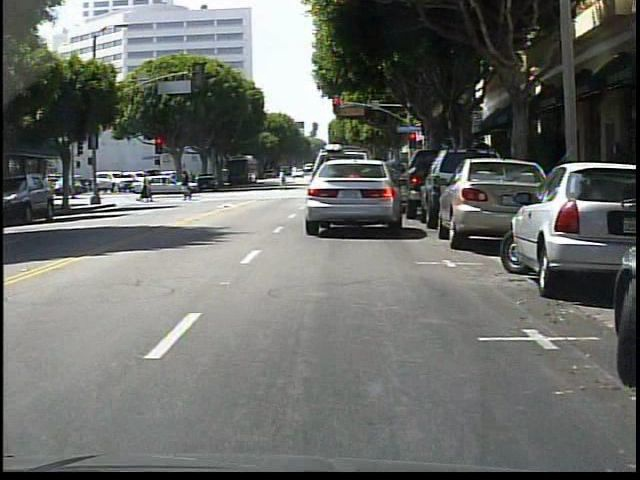person: (139, 174, 154, 204), (180, 169, 194, 201), (279, 167, 288, 190)
